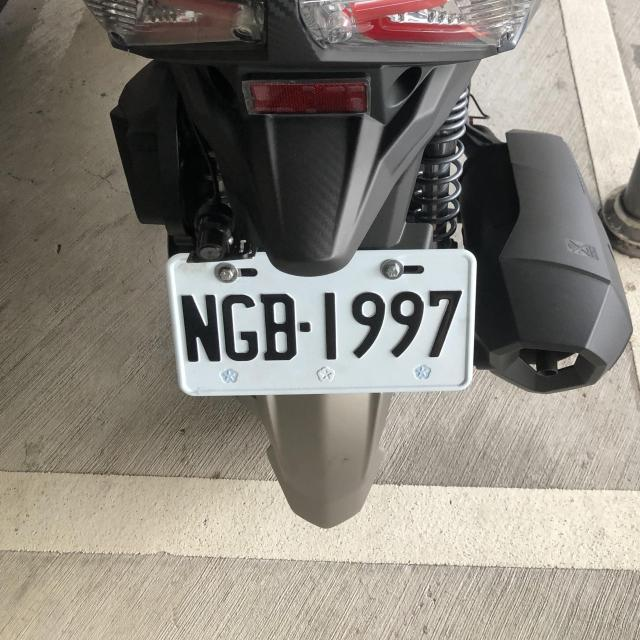W: (162, 244, 478, 400)
